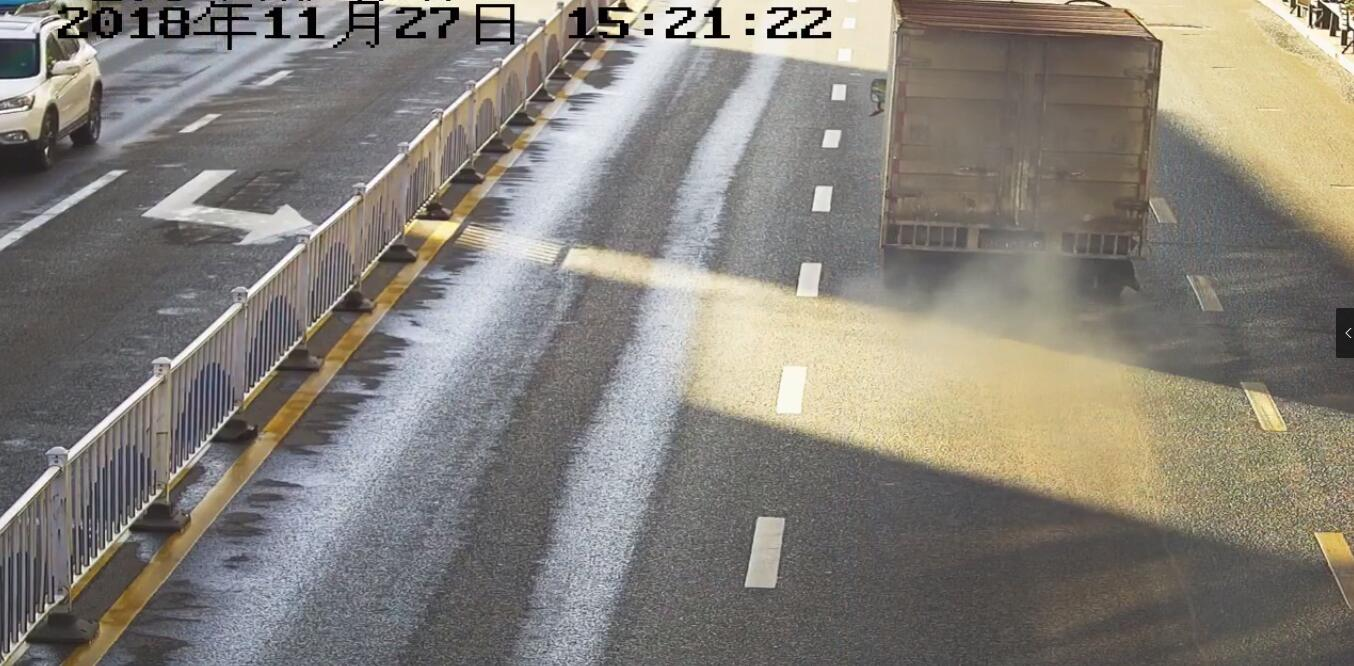yanwu: (861, 237, 1171, 371)
